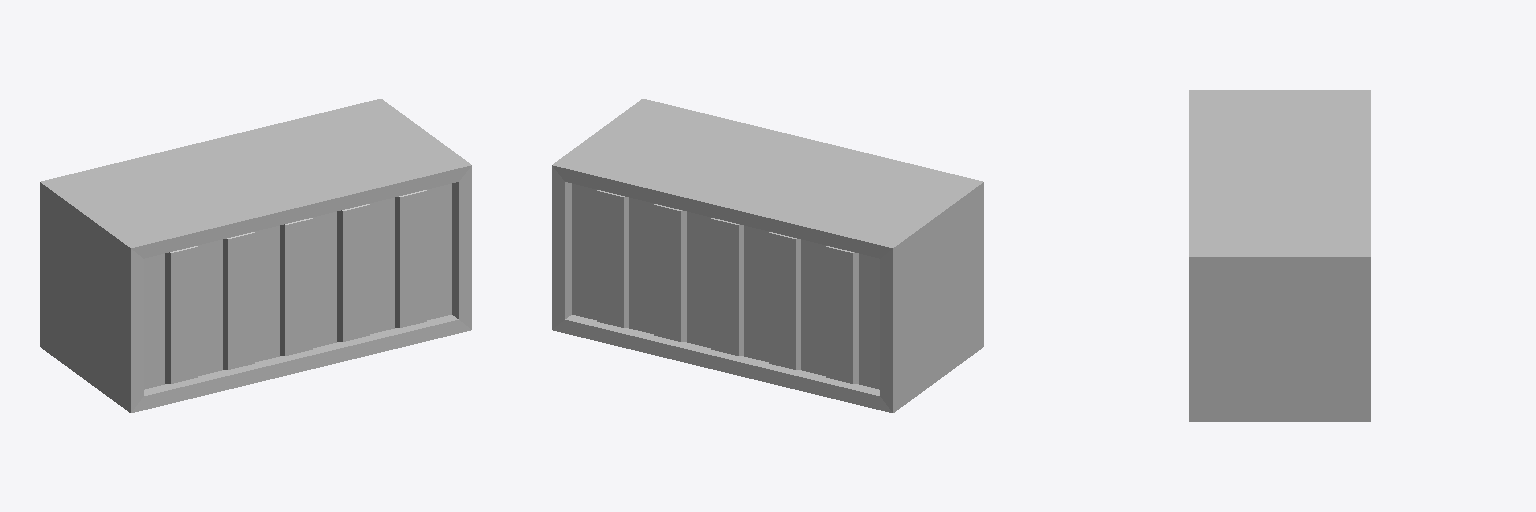
Rendered from CrateMetal.obj.
3 renders of one model, left to right at view 1: azimuth 30°, elevation 25°; view 2: azimuth 150°, elevation 25°; view 3: azimuth 270°, elevation 25°, orthographic.
Parts seen in each view (by area): view 1: Cube1; view 2: Cube1; view 3: Cube1.
Part boxes in pixels (x1,y1,x2,y2): Cube1: (40, 99, 471, 412); Cube1: (552, 99, 983, 412); Cube1: (1189, 90, 1370, 421).
Bounding box in the file's own units: 4.33 × 2 × 2.